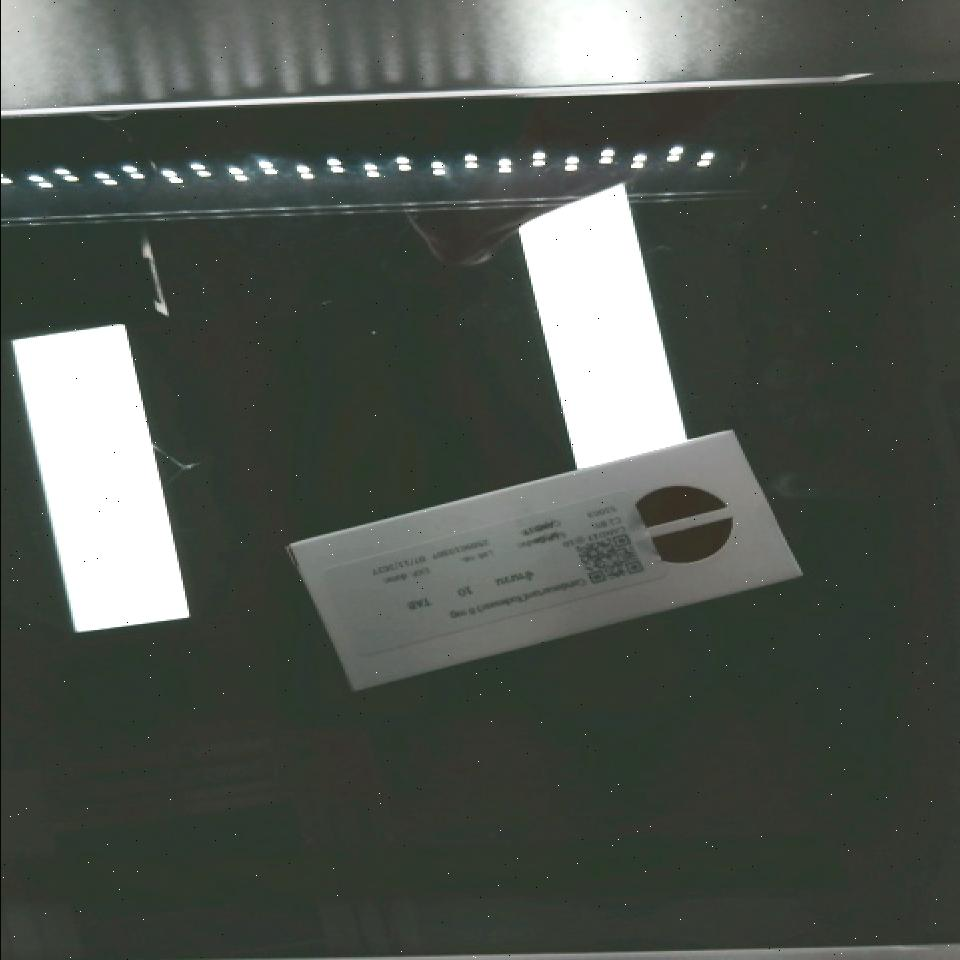medicine_box: (289, 423, 800, 700)
qr_code: (553, 508, 666, 603)
